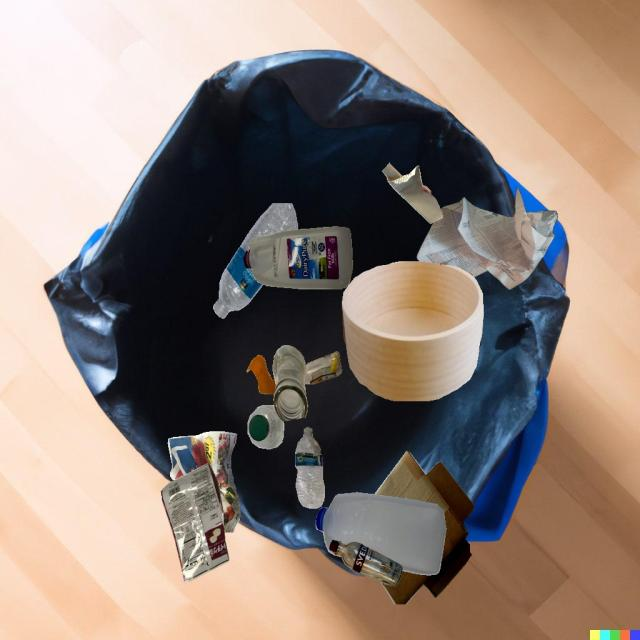biowaste: (246, 355, 276, 394)
cardboard: (374, 450, 474, 604), (382, 163, 443, 224)
combustible waste: (342, 261, 483, 401)
glass: (329, 540, 402, 586), (272, 345, 308, 422), (305, 351, 342, 384)
paper: (417, 188, 558, 290), (168, 431, 241, 532)
plastic: (316, 492, 446, 575), (214, 203, 298, 319), (161, 463, 229, 582), (243, 227, 353, 289), (295, 427, 325, 509), (247, 405, 284, 449)
